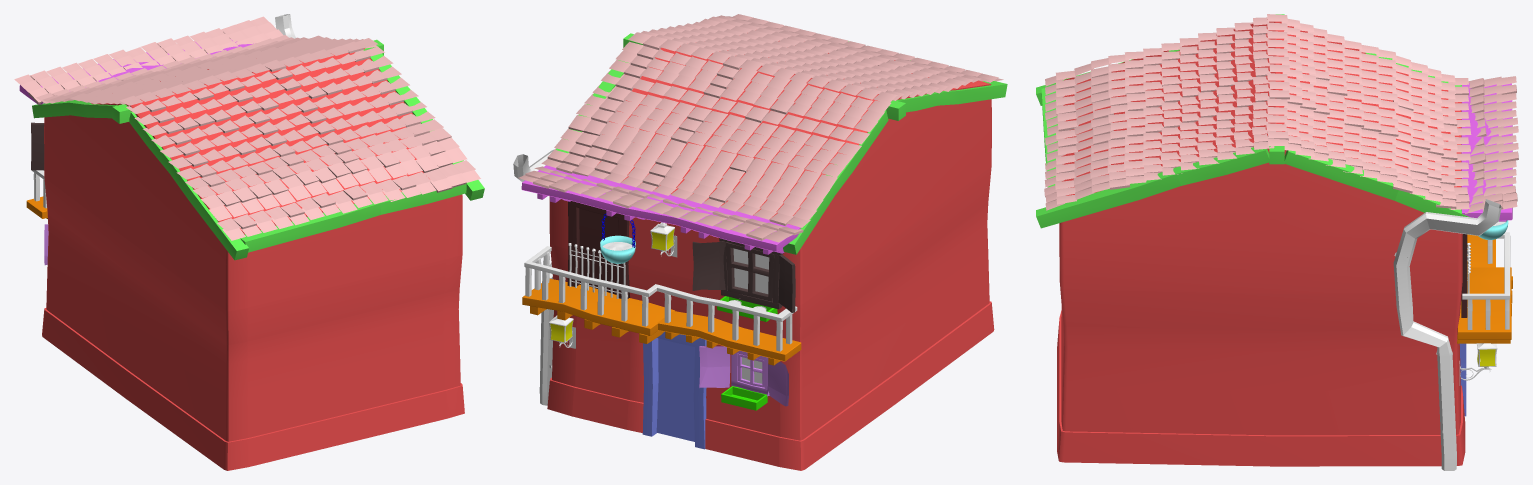
Rendered from casa_pueblo_low.fbx.
3 views of the same model, side by side, from view 1: azimuth 30°, elevation 25°; view 2: azimuth 150°, elevation 25°; view 3: azimuth 270°, elevation 25° (orthographic). The views are drawn at different scales.
Parts seen in each view (by area): view 1: polySurface162, TEJASCASAALDEANOS, polySurface163, TRONCOSCASATOP_ALDEANOS, casa_aldeanos_bloque_05:pasted__pCube10866, TOPTECHO_BALCON; view 2: polySurface162, TEJASCASAALDEANOS, TOPTECHO_BALCON, polySurface163, BALCONCASAALDEANOS, TRONCOSCASATOP_ALDEANOS, casa_aldeanos_bloque_05:pasted__polySurface18447, polySurface7, PUERTACASAPRIMER_PISO, casa_aldeanos_bloque_05:pasted__pCube10866, casa_aldeanos_bloque_05:pCube13, barandas (+9 smaller); view 3: polySurface162, TEJASCASAALDEANOS, polySurface163, TRONCOSCASATOP_ALDEANOS, TUBOCASA_ALDEANOS, BALCONCASAALDEANOS, TOPTECHO_BALCON, barandas, polySurface7, polySurface161.
Boxes of the visible parts, <box> form: polySurface162: <box>42,103,464,470</box>; TEJASCASAALDEANOS: <box>14,16,480,240</box>; polySurface163: <box>91,48,429,221</box>; TRONCOSCASATOP_ALDEANOS: <box>32,39,484,260</box>; casa_aldeanos_bloque_05:pasted__pCube10866: <box>31,122,44,170</box>; TOPTECHO_BALCON: <box>19,39,253,104</box>; polySurface162: <box>547,84,994,470</box>; TEJASCASAALDEANOS: <box>518,14,1003,242</box>; TOPTECHO_BALCON: <box>521,165,800,254</box>; polySurface163: <box>597,40,990,224</box>; BALCONCASAALDEANOS: <box>522,279,674,343</box>; TRONCOSCASATOP_ALDEANOS: <box>556,33,1007,254</box>; casa_aldeanos_bloque_05:pasted__polySurface18447: <box>656,338,694,441</box>; polySurface7: <box>657,311,801,365</box>; PUERTACASAPRIMER_PISO: <box>642,331,706,449</box>; casa_aldeanos_bloque_05:pasted__pCube10866: <box>692,241,795,312</box>; casa_aldeanos_bloque_05:pCube13: <box>719,238,783,309</box>; barandas: <box>524,246,797,321</box>; polySurface162: <box>1057,102,1465,466</box>; TEJASCASAALDEANOS: <box>1044,14,1518,213</box>; polySurface163: <box>1063,19,1459,195</box>; TRONCOSCASATOP_ALDEANOS: <box>1036,14,1469,228</box>; TUBOCASA_ALDEANOS: <box>1393,199,1501,470</box>; BALCONCASAALDEANOS: <box>1457,267,1512,343</box>; TOPTECHO_BALCON: <box>1461,83,1512,221</box>; barandas: <box>1462,232,1510,299</box>; polySurface7: <box>1467,234,1495,267</box>; polySurface161: <box>1461,234,1467,317</box>.
Bounding box in the file's own units: 1789 × 1862 × 2532.
